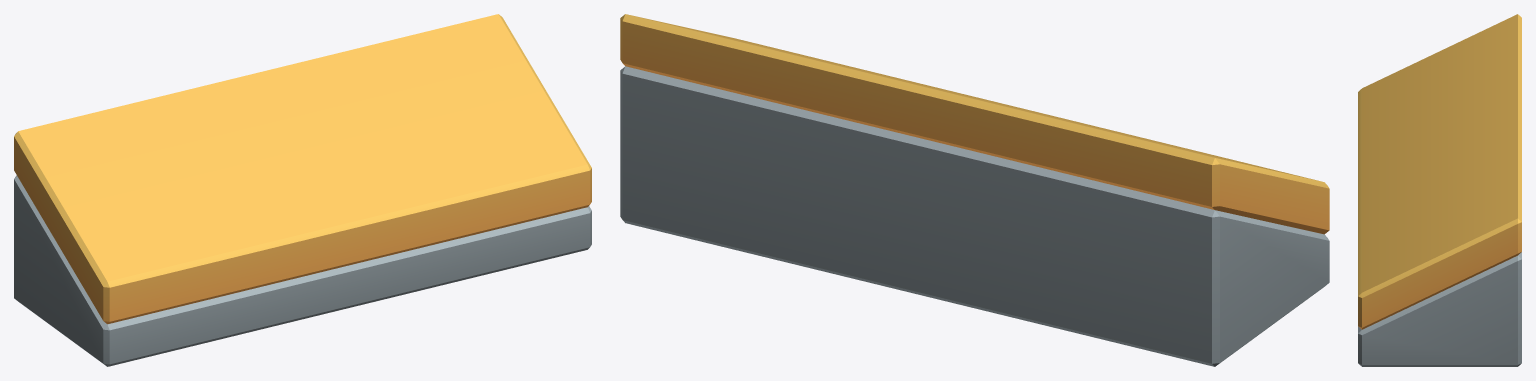
The model's file is platform_slope_6x2x2_yellow.glb.
The picture shows the model from 3 angles, left to right: view 1: azimuth 30°, elevation 25°; view 2: azimuth 150°, elevation 25°; view 3: azimuth 270°, elevation 25°; orthographic projection. The views are drawn at different scales.
Parts seen in each view (by area): view 1: platform_slope_6x2x2_yellow; view 2: platform_slope_6x2x2_yellow; view 3: platform_slope_6x2x2_yellow.
Boxes of the visible parts, x1,y1,x2,y2 form: platform_slope_6x2x2_yellow: (14, 14, 591, 366); platform_slope_6x2x2_yellow: (620, 14, 1329, 366); platform_slope_6x2x2_yellow: (1358, 14, 1521, 366).
Bounding box in the file's own units: 6 × 2 × 2.
Materials: 1 (1 with a texture image).
